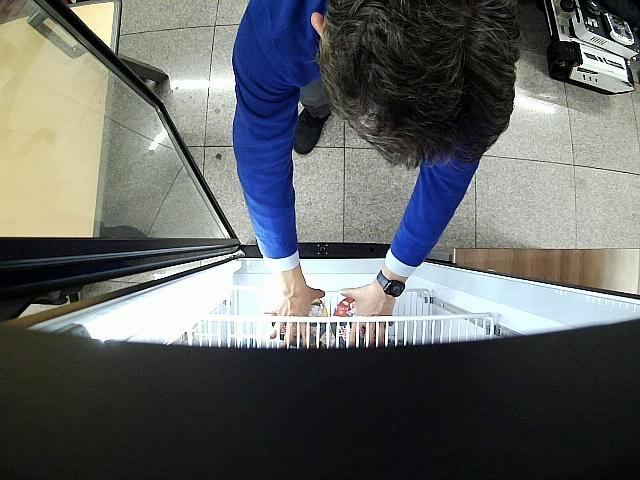00_hand: (270, 277, 325, 346), (339, 287, 395, 346)
07_buldak_L: (272, 298, 328, 342), (332, 297, 364, 347)
